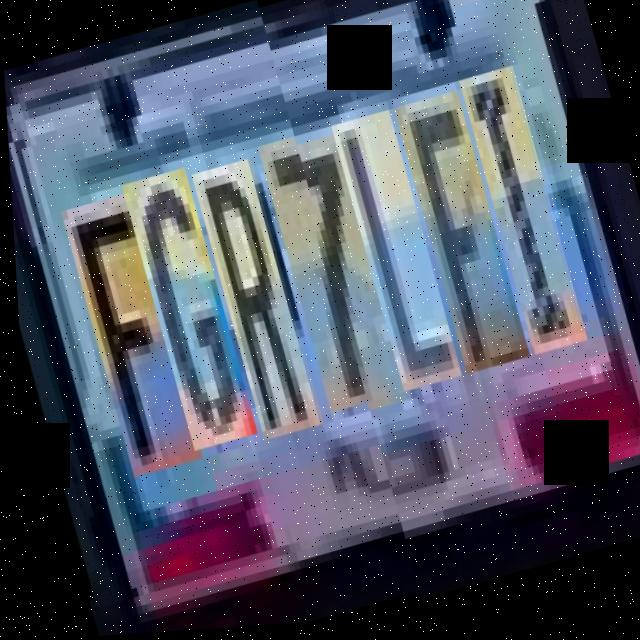7: (254, 127, 400, 420)
F: (57, 190, 197, 482), (389, 85, 523, 374)
G: (118, 166, 252, 456)
I: (455, 60, 581, 356)
L: (326, 103, 455, 391)
R: (189, 158, 318, 447)
